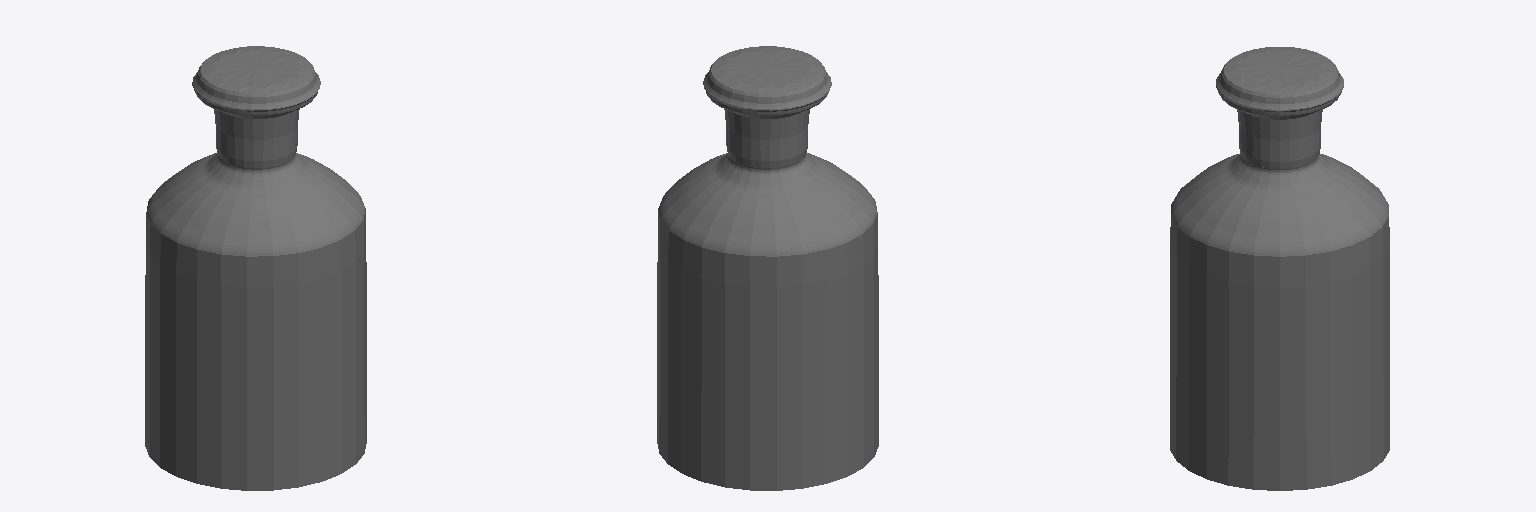
The model's file is Bottle.obj.
3 views of the same model, side by side, from view 1: azimuth 30°, elevation 25°; view 2: azimuth 150°, elevation 25°; view 3: azimuth 270°, elevation 25° (orthographic).
Visible parts, largest first — view 1: Whiskey_6:pCylinder1 group18; view 2: Whiskey_6:pCylinder1 group18; view 3: Whiskey_6:pCylinder1 group18.
Part boxes in pixels (x1,y1,x2,y2): Whiskey_6:pCylinder1 group18: (145, 46, 366, 490); Whiskey_6:pCylinder1 group18: (657, 46, 878, 490); Whiskey_6:pCylinder1 group18: (1170, 47, 1389, 490).
Size of the model in its own units: 3.01 by 5.65 by 2.99.